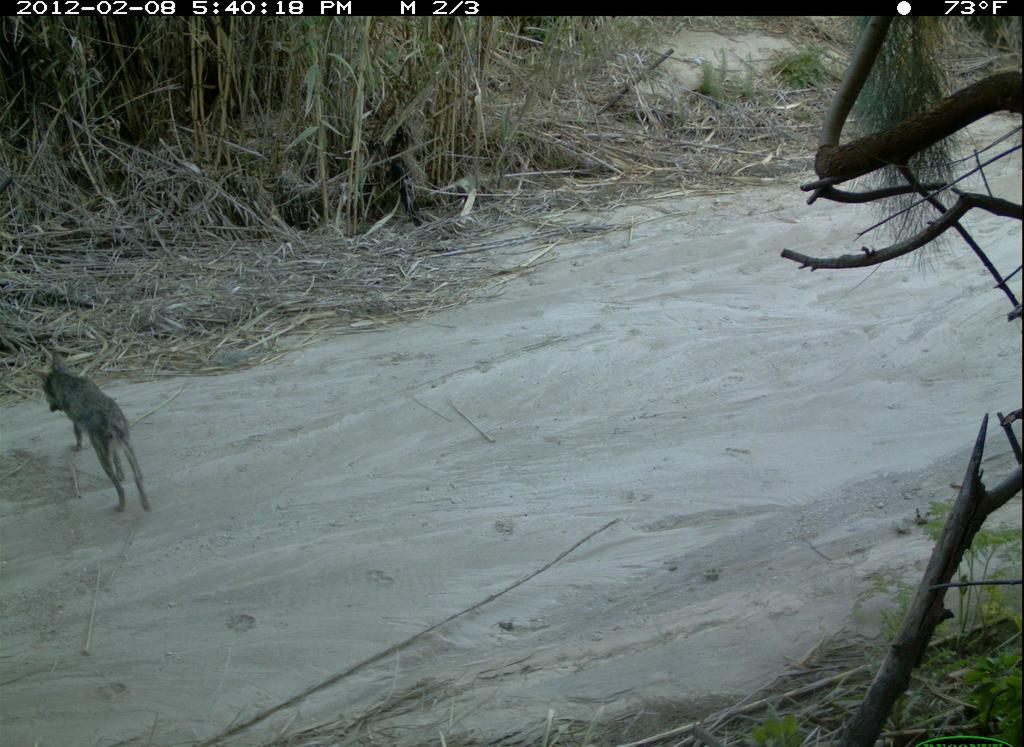coyote: (38, 351, 159, 523)
